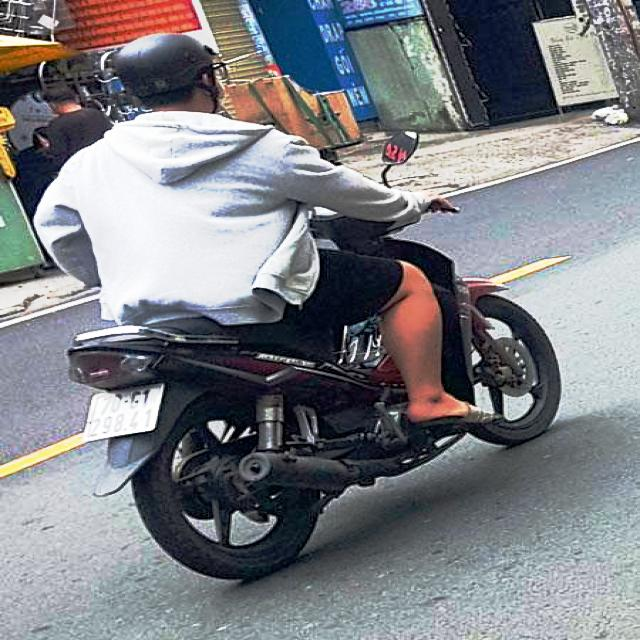license_plate: (84, 386, 163, 443)
